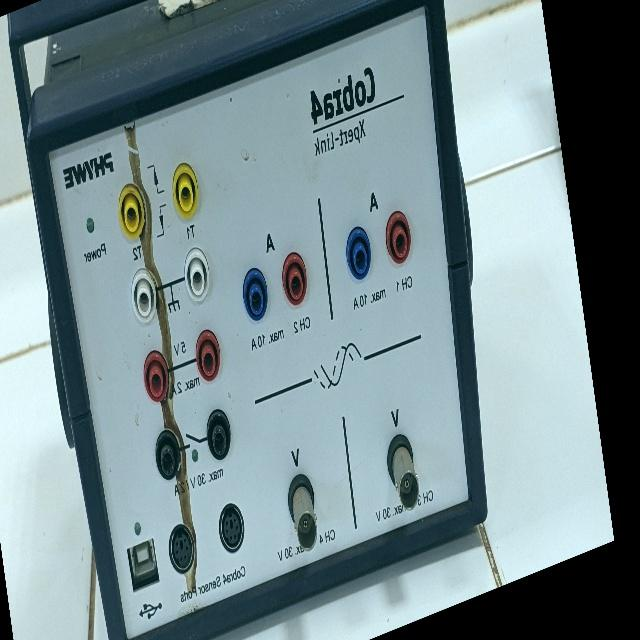Power Supply of Speed of Light Demo: (0, 0, 525, 640)
